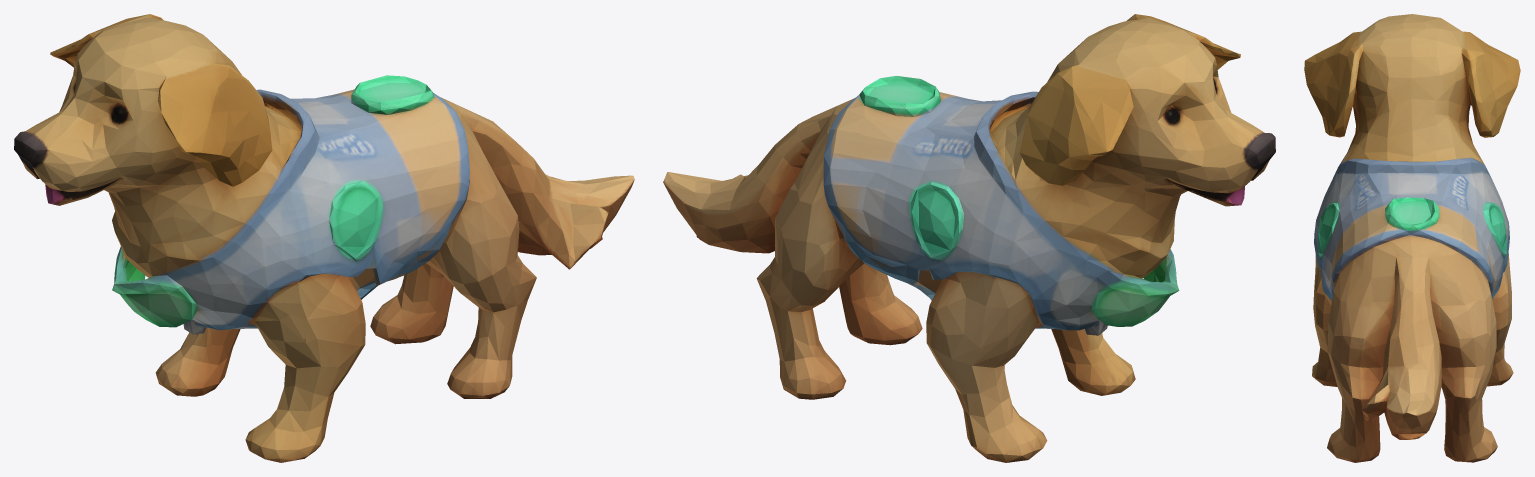
Rendered from TherapyDog.glb.
3 renders of one model, left to right at view 1: azimuth 30°, elevation 25°; view 2: azimuth 150°, elevation 25°; view 3: azimuth 270°, elevation 25°, orthographic. The views are drawn at different scales.
Visible parts, largest first — view 1: world; view 2: world; view 3: world.
Part boxes in pixels (x1,y1,x2,y2): world: (14, 14, 634, 462); world: (663, 14, 1275, 462); world: (1304, 14, 1520, 462).
Bounding box in the file's own units: 1 × 0.6378 × 0.3908.
Materials: 1 (1 with a texture image).
